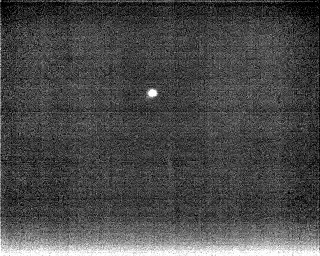AIRPLANE: (145, 86, 160, 101)
